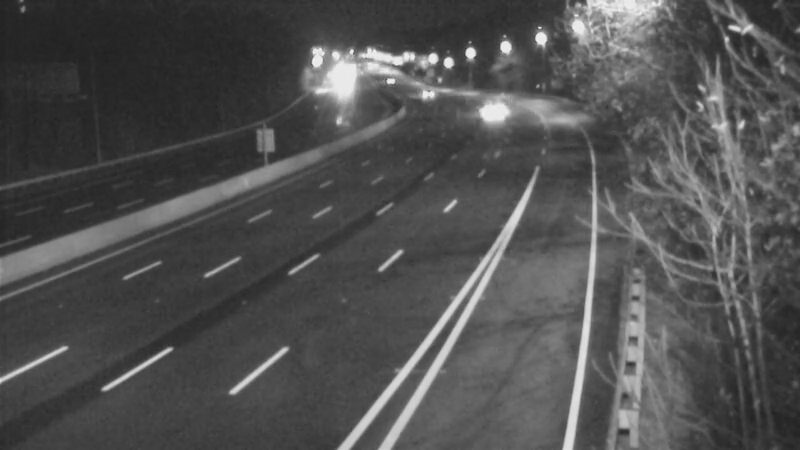vehicle: (366, 56, 416, 106), (395, 68, 445, 118), (461, 87, 511, 137)
